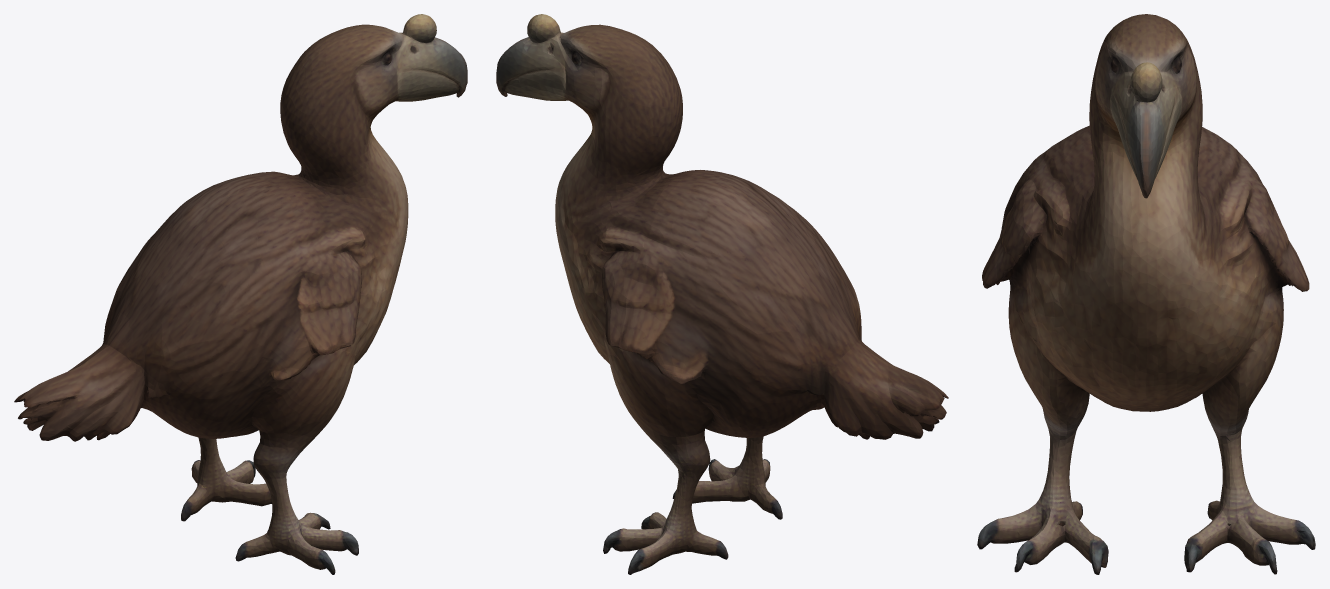
3 renders of one model, left to right at view 1: azimuth 30°, elevation 25°; view 2: azimuth 150°, elevation 25°; view 3: azimuth 270°, elevation 25°, orthographic. The views are drawn at different scales.
Parts seen in each view (by area): view 1: world; view 2: world; view 3: world.
Part boxes in pixels (left/top/right/bottom): world: left=14, top=14, right=467, bottom=574; world: left=496, top=14, right=948, bottom=574; world: left=977, top=14, right=1315, bottom=574.
Bounding box in the file's own units: 0.9908 × 1 × 0.529.
1 material, 1 textured.
